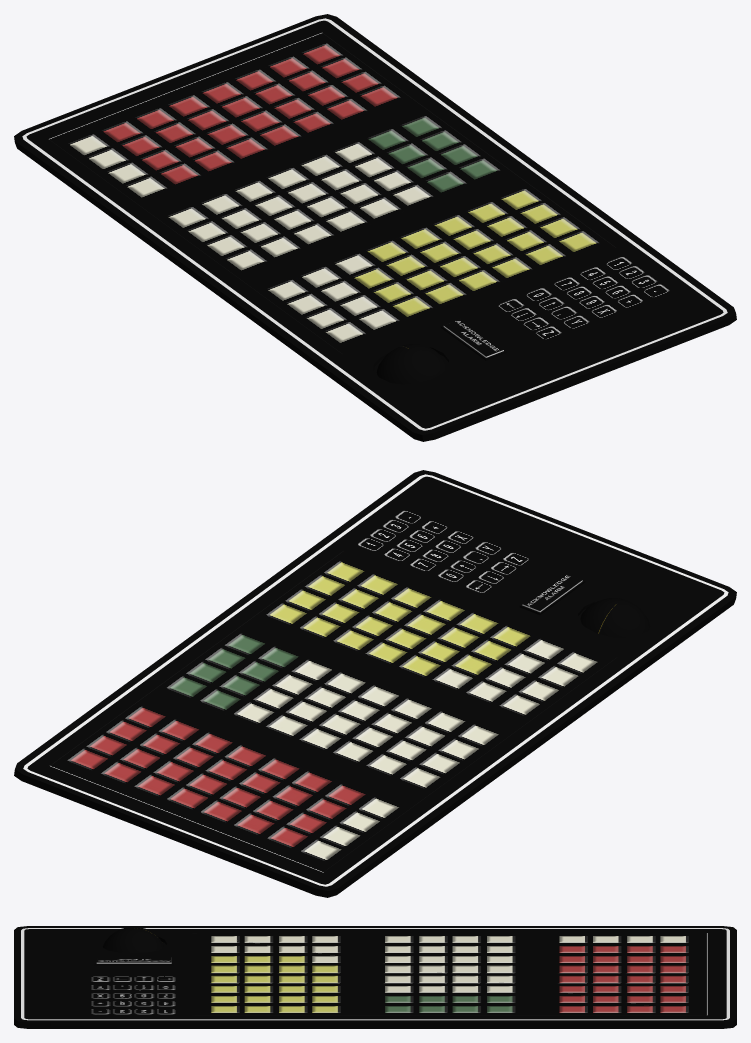
File: ECR_keyboard.fbx
3 renders of one model, top to bottom at view 1: azimuth 30°, elevation 25°; view 2: azimuth 150°, elevation 25°; view 3: azimuth 270°, elevation 25°, orthographic. The views are drawn at different scales.
Visible parts, largest first — view 1: ECR_keyboard, acknowledgeButton; view 2: ECR_keyboard, acknowledgeButton; view 3: ECR_keyboard, acknowledgeButton.
Boxes of the visible parts, left/top/right/bottom form: ECR_keyboard: left=14, top=14, right=736, bottom=441; acknowledgeButton: left=443, top=319, right=503, bottom=357; ECR_keyboard: left=14, top=470, right=736, bottom=897; acknowledgeButton: left=522, top=573, right=582, bottom=612; ECR_keyboard: left=14, top=926, right=736, bottom=1028; acknowledgeButton: left=96, top=957, right=171, bottom=963.
Bounding box in the file's own units: 23.68 × 3.78 × 52.57.
